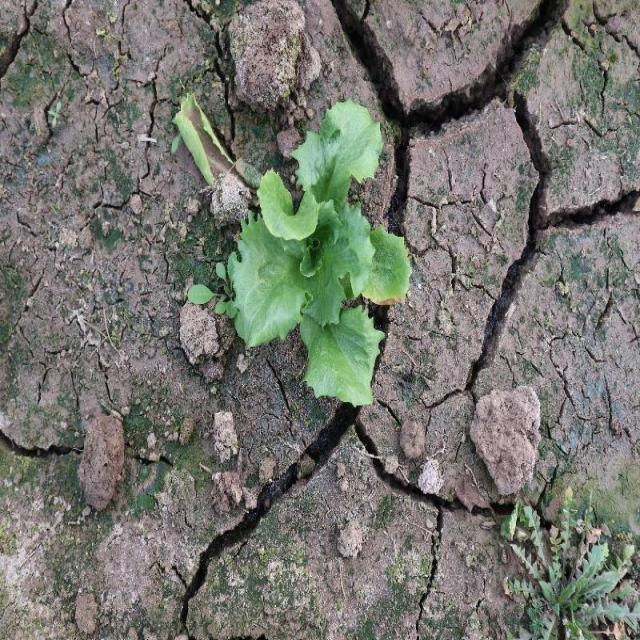crop: (221, 98, 412, 404)
